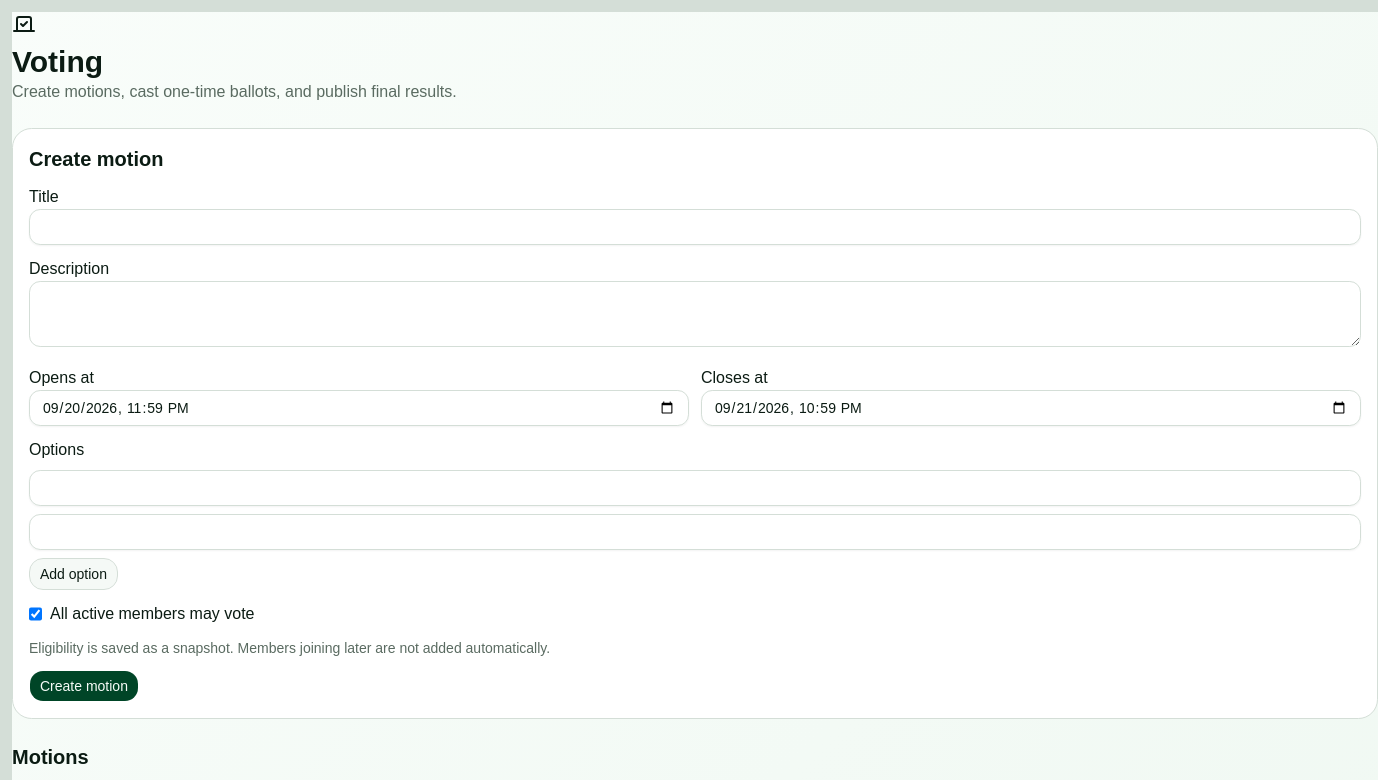
Scenario: creates a motion with ordered options, refreshes the list, and clears the form
Type "New motion" into the field labelled "Title" at {"x": 695, "y": 227}, box x1=29 y1=209 x2=1361 y2=245
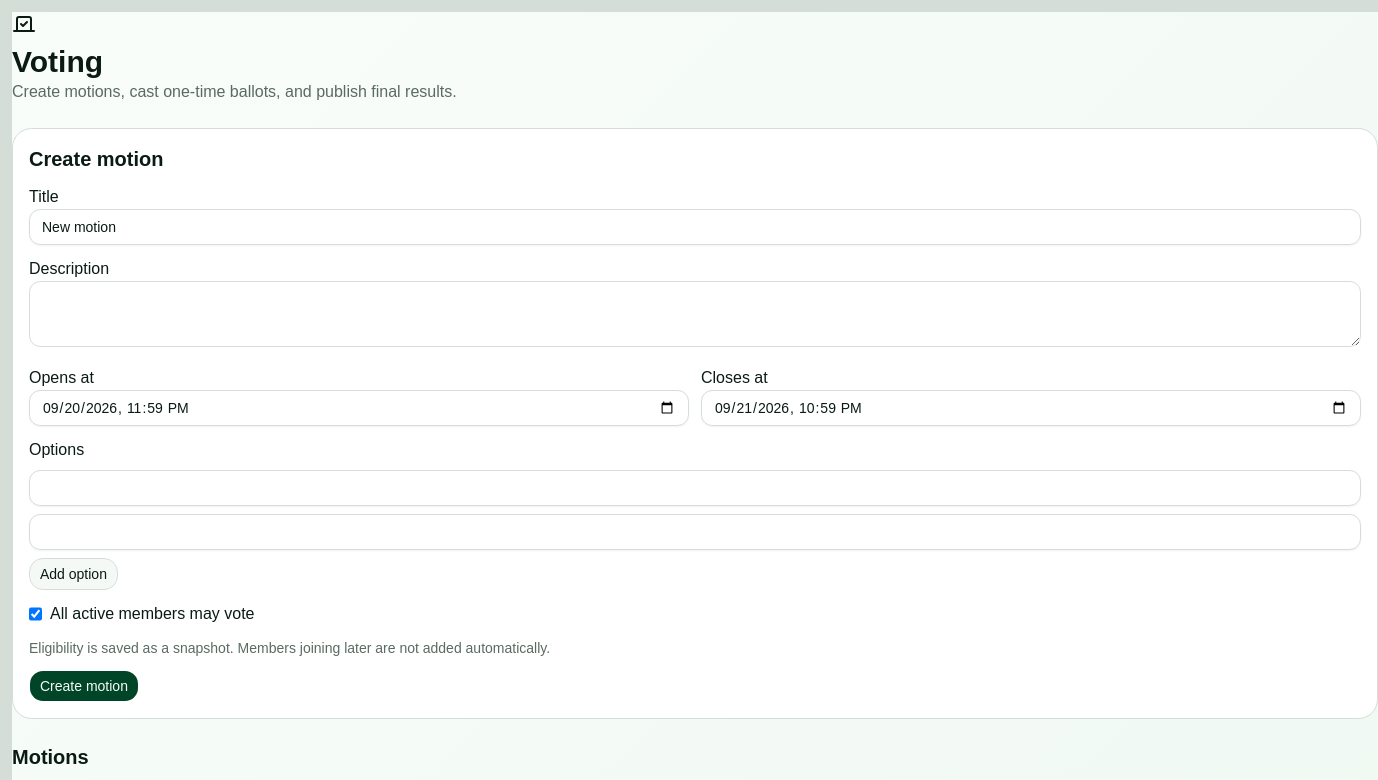
Type "Approve" into the field named "Option 1" at {"x": 695, "y": 488}, box x1=29 y1=470 x2=1361 y2=506
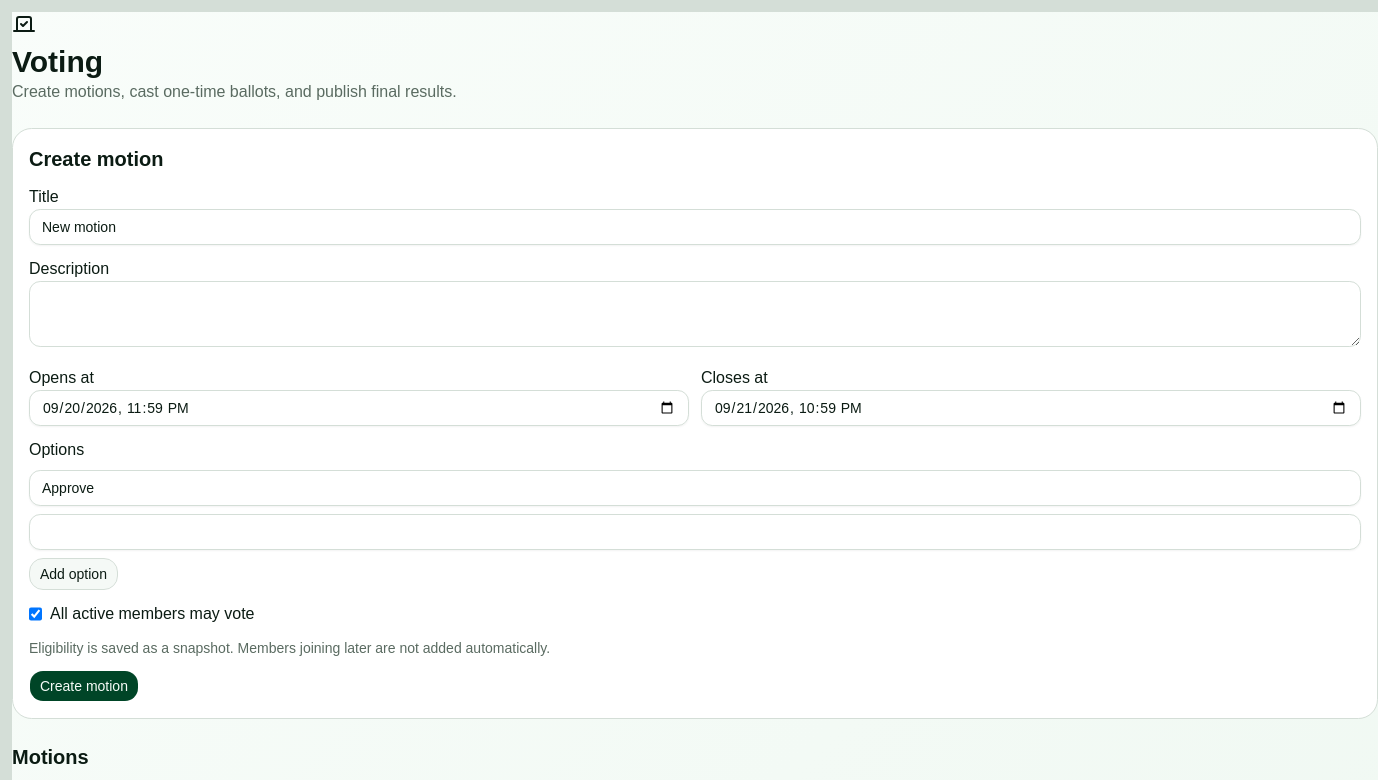
Type "Reject" into the field named "Option 2" at {"x": 695, "y": 532}, box x1=29 y1=514 x2=1361 y2=550
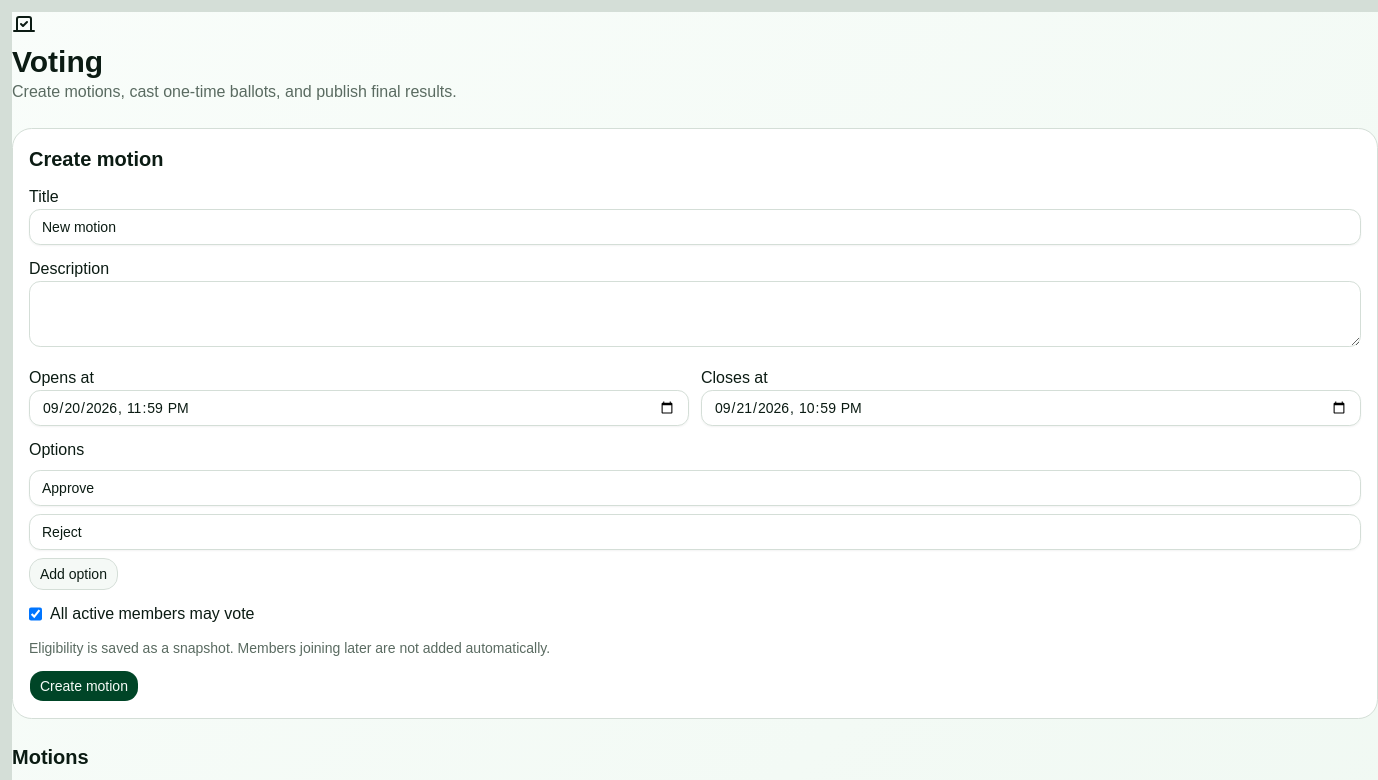
Click the button "Add option" at {"x": 74, "y": 574}, box x1=29 y1=558 x2=118 y2=590
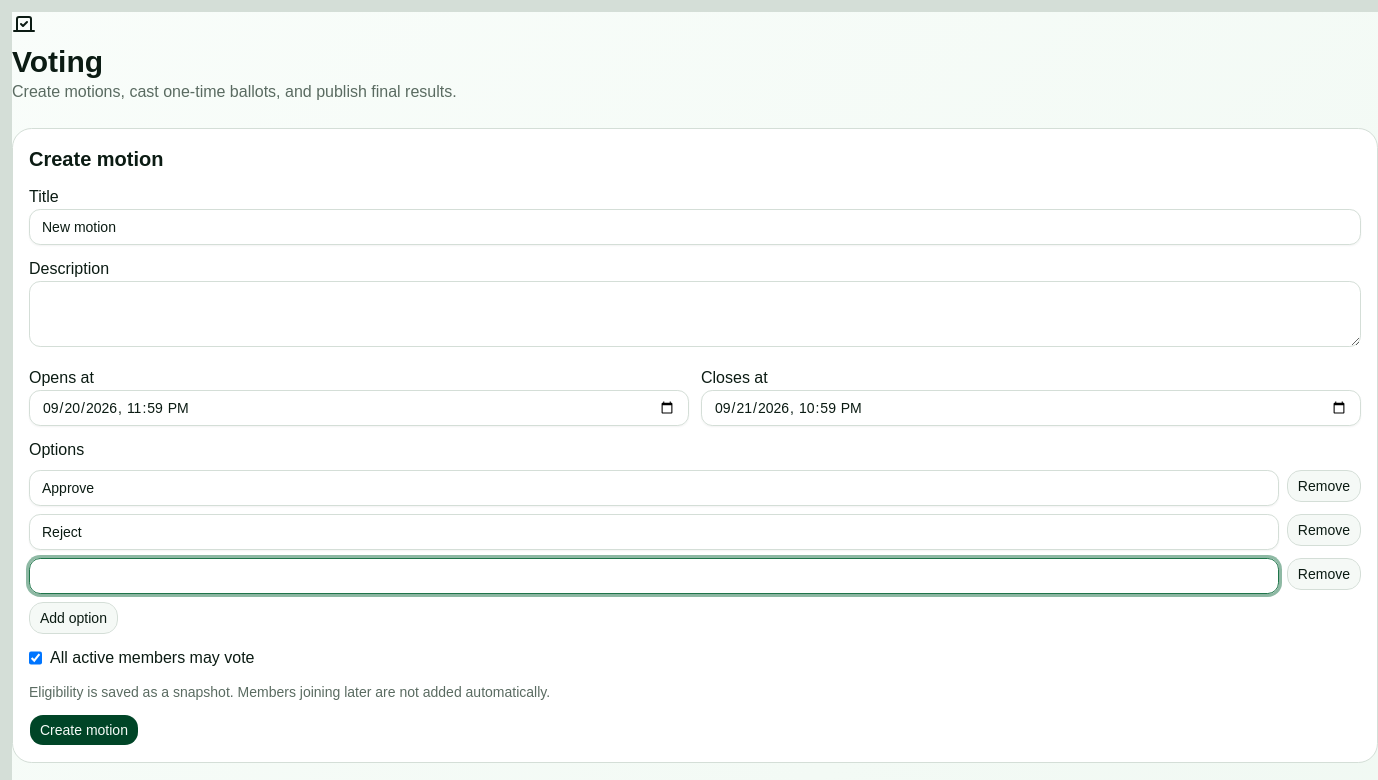
Type "Abstain" into the field named "Option 3" at {"x": 654, "y": 576}, box x1=29 y1=558 x2=1279 y2=594
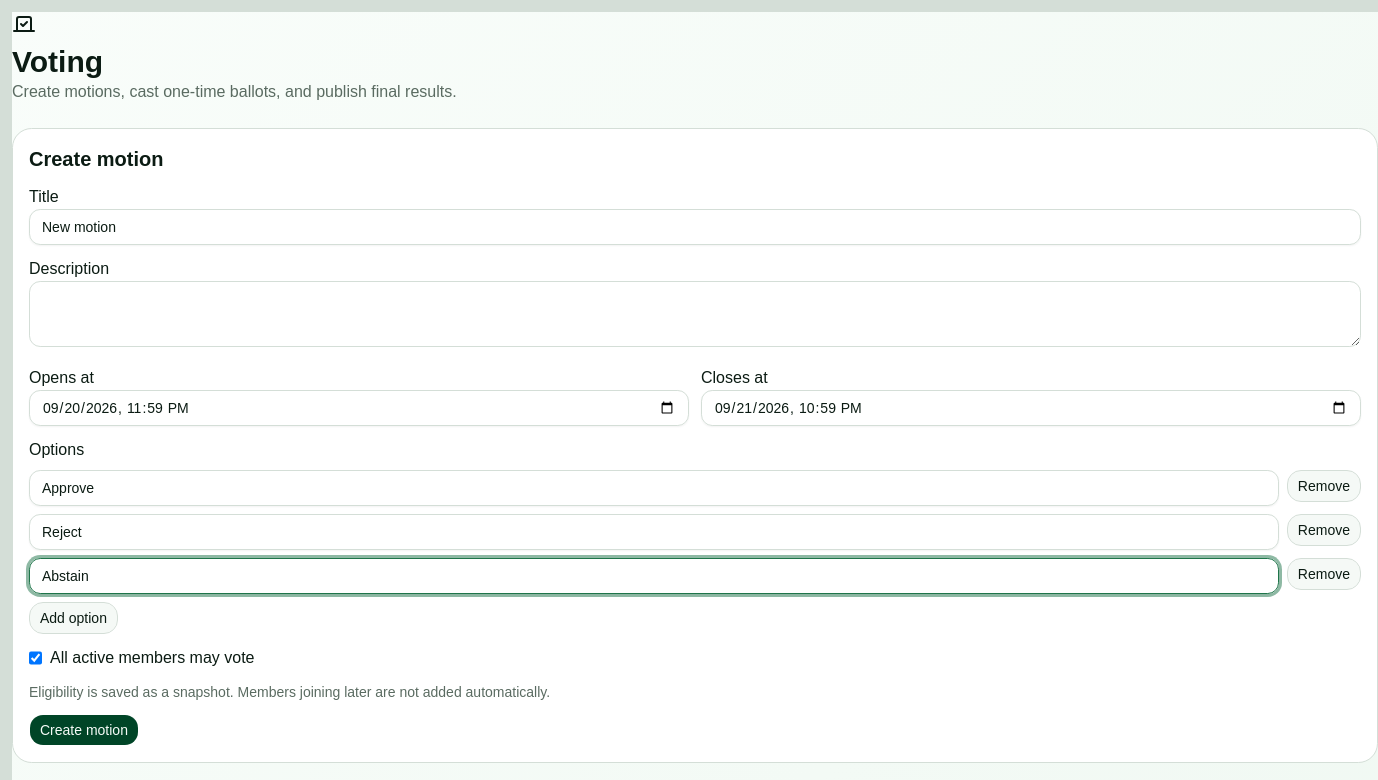
Click the button "Create motion" at {"x": 84, "y": 730}, box x1=29 y1=714 x2=139 y2=746
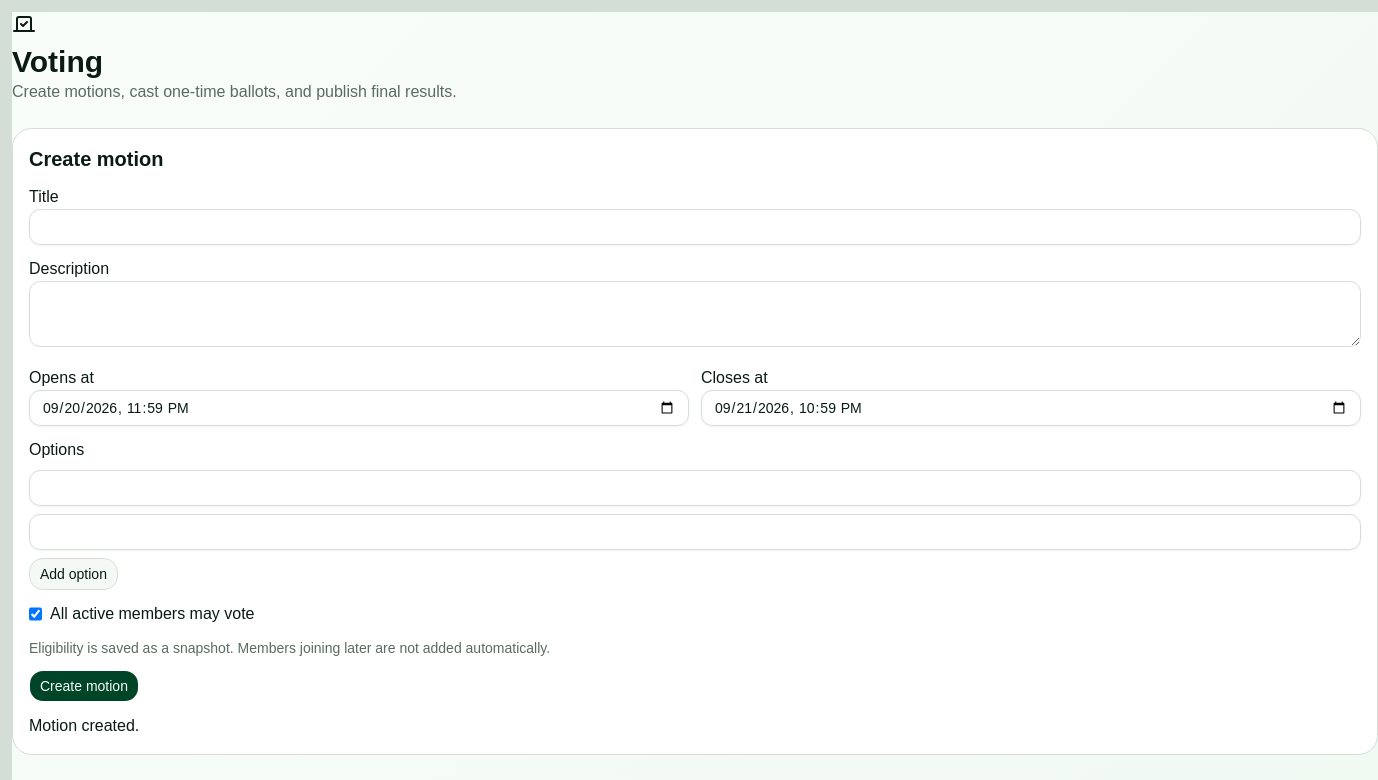
Now the text "Motion created." is shown, box x1=29 y1=717 x2=139 y2=734
Now the field labelled "Title" is empty, box x1=29 y1=209 x2=1361 y2=245
